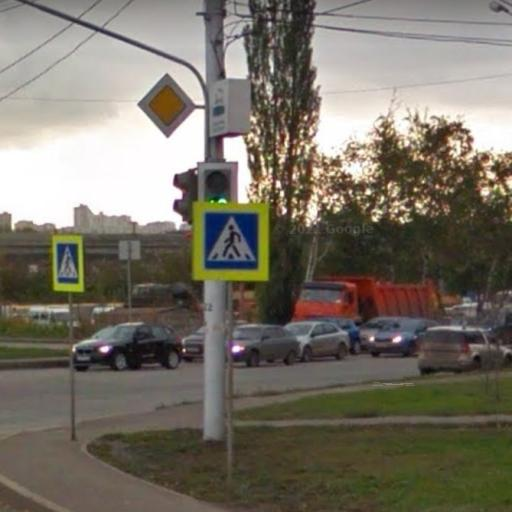traffic_sign: (193, 202, 272, 283), (137, 69, 201, 143), (52, 234, 89, 294)
